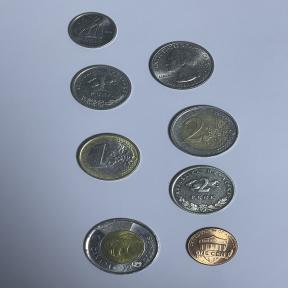coin: (78, 214, 163, 277), (162, 101, 242, 161), (143, 38, 219, 94), (166, 162, 238, 218), (72, 132, 142, 184), (182, 225, 242, 269), (65, 10, 120, 52)
